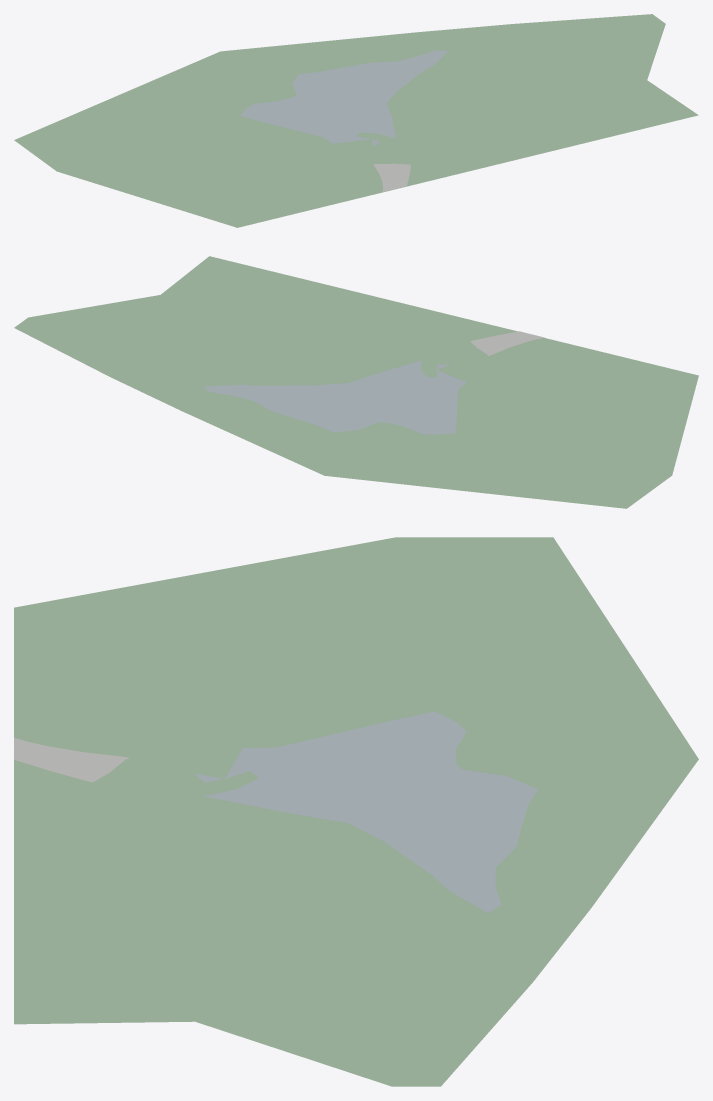
File: 101_113_mid.glb
3 renders of one model, top to bottom at view 1: azimuth 30°, elevation 25°; view 2: azimuth 150°, elevation 25°; view 3: azimuth 270°, elevation 25°, orthographic. The views are drawn at different scales.
Size of the model in its own units: 500 by 0.4422 by 264.
